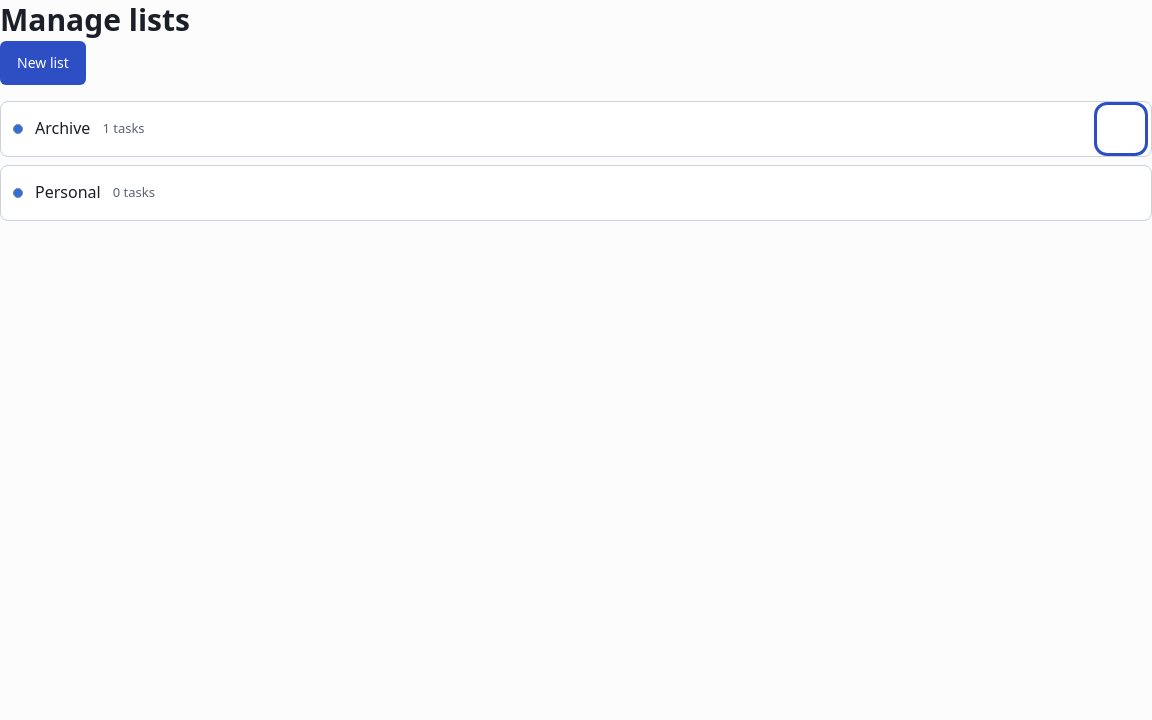
Test: keyboard-only: F6 delete list with disposition › runs the whole disposition flow from the keyboard on the default (move) choice
Expected: the list item "Archive 1 tasks" is shown, [0,100,1151,156]
Press ArrowDown in the button named "Actions for \"Archive\"", box [1099,106,1143,150]
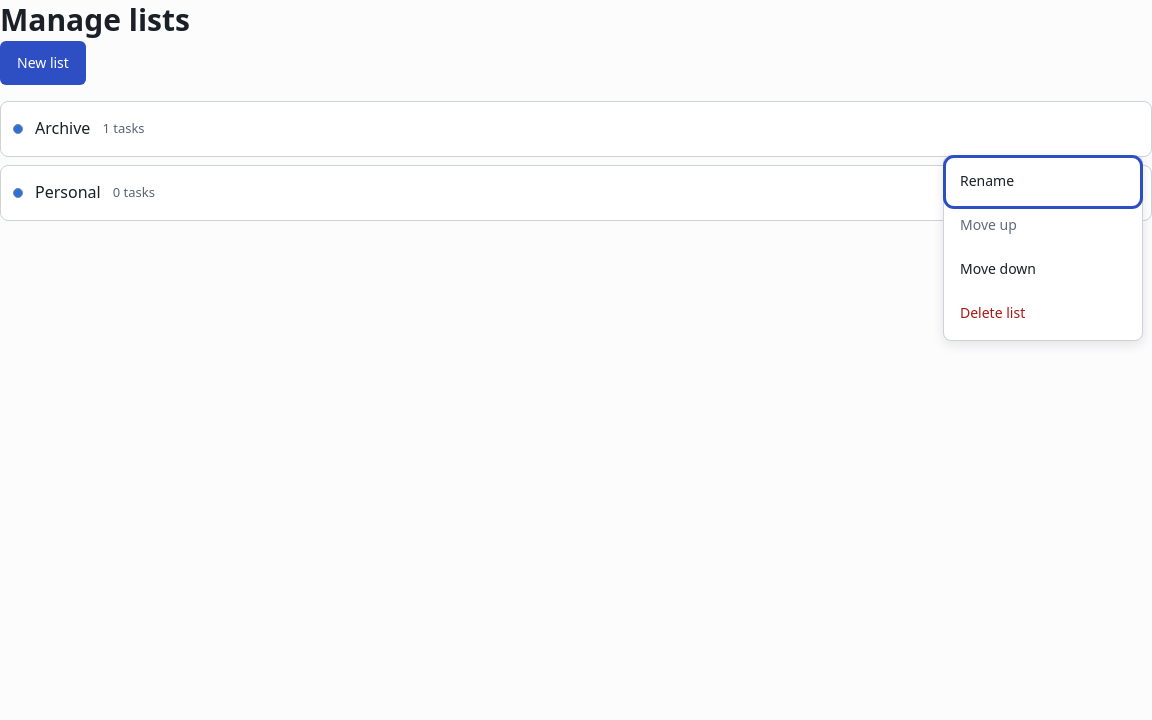
Result: the menu item "Rename" is shown at [948,160,1138,204]
Press ArrowDown in the menu, box [943,154,1143,340]
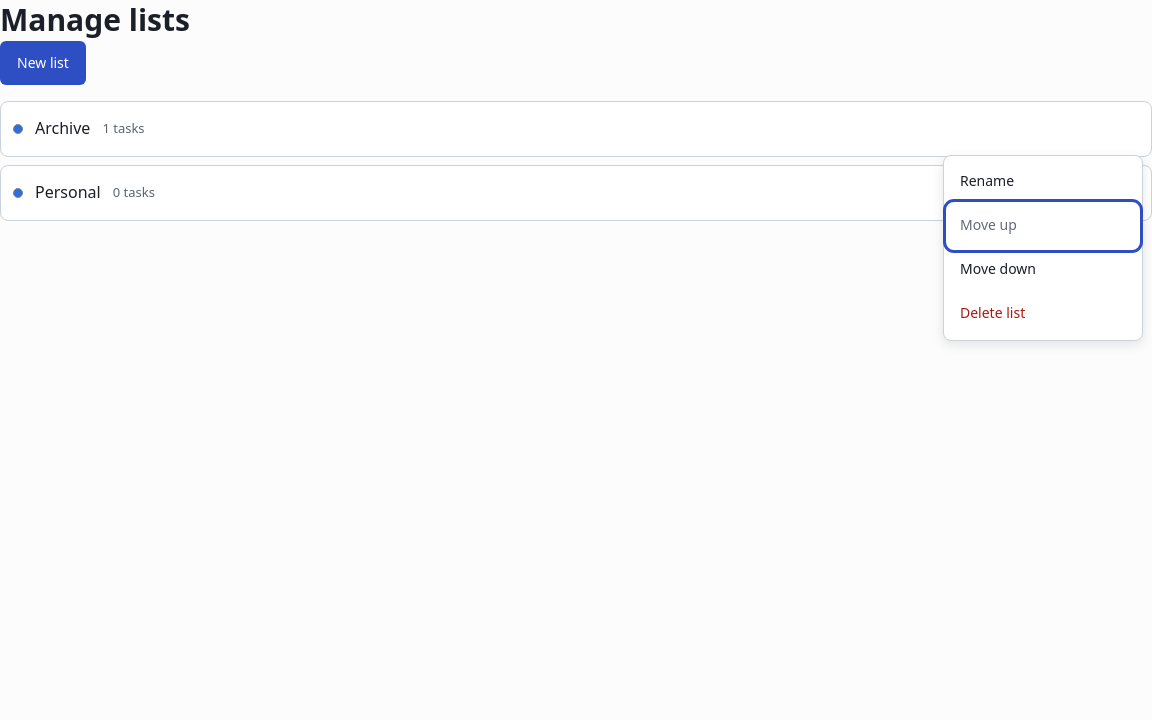
Press ArrowDown in the menu, box [943,154,1143,340]
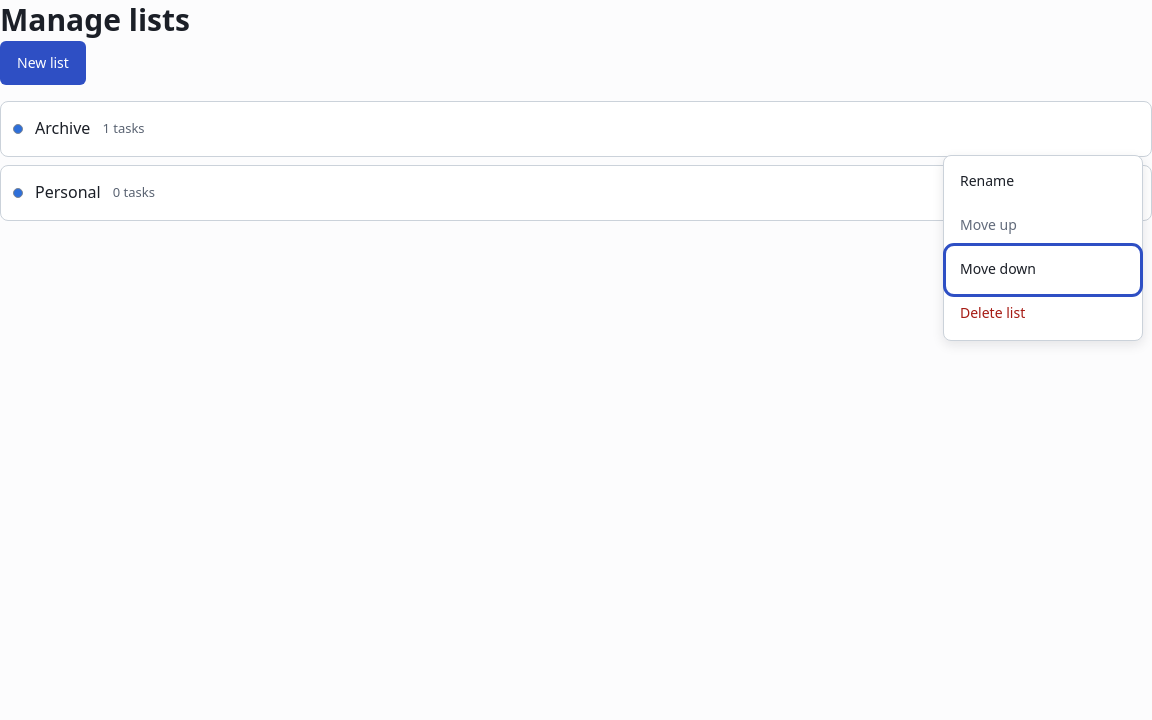
Press ArrowDown in the menu, box [943,154,1143,340]
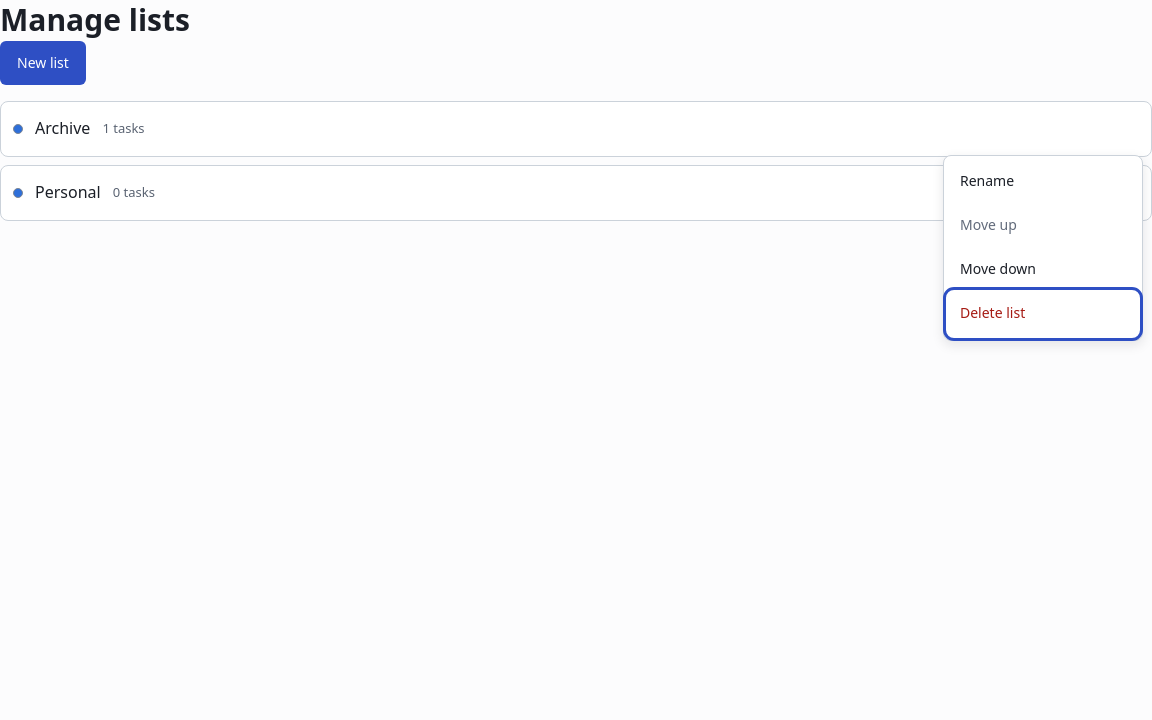
Result: the menu item "Delete list" is shown
Press Enter in the menu item "Delete list", box [948,292,1138,336]
Click the menu item "Delete list". click: point(1043, 314)
box: [948,292,1138,336]
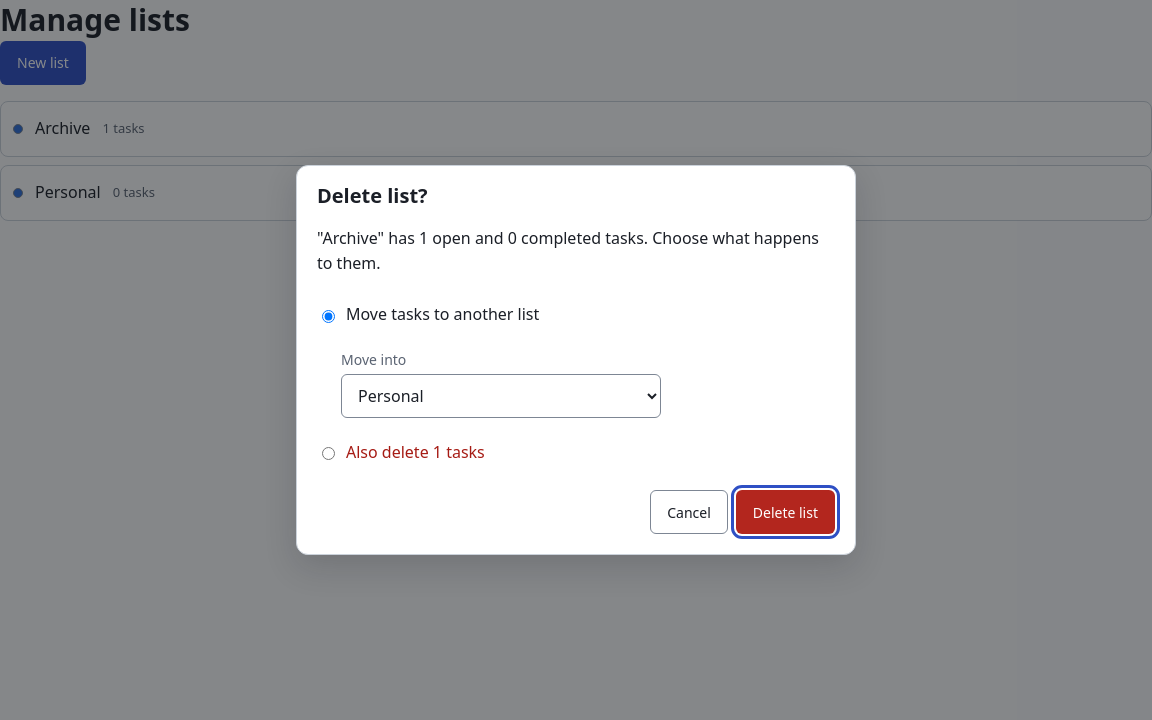
Result: the text "\"Archive\" has 1 open and 0 completed tasks. Choose what happens to them." is shown at [317,226,835,277]
Result: the dropdown labelled "Move into" shows "Personal" at [341,374,661,418]
Press Enter in the button "Delete list", box [736,490,835,534]
Click the button "Delete list". click: point(785, 512)
box: [736,490,835,534]
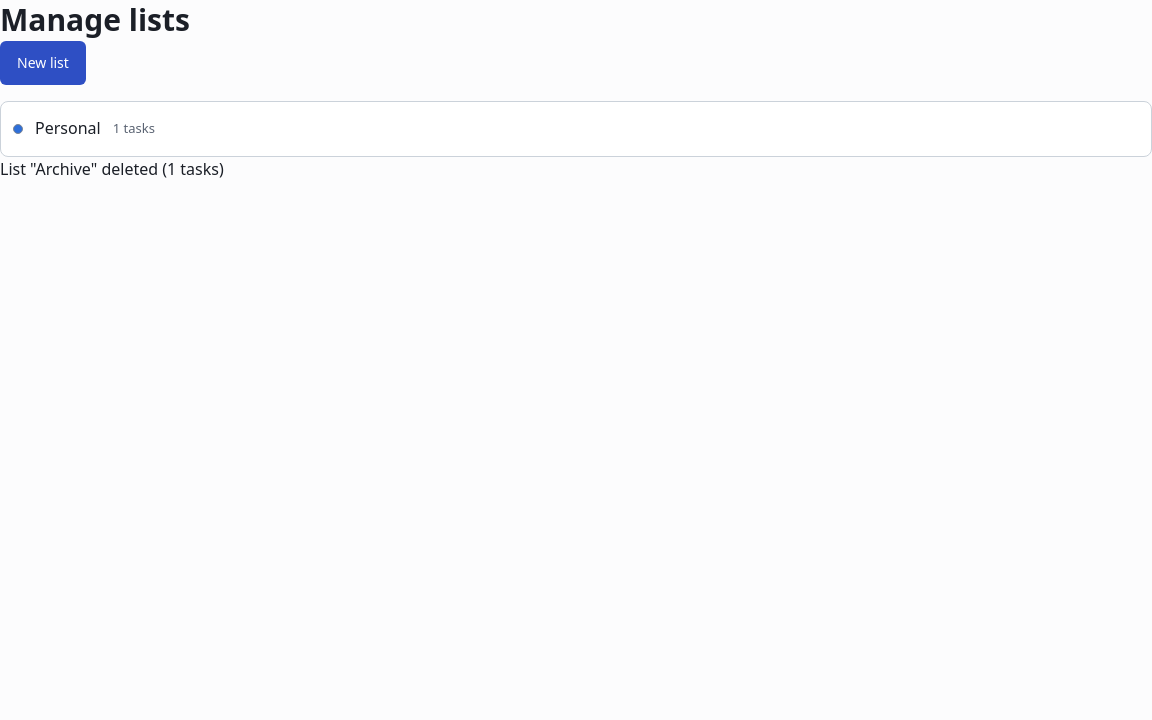
Result: the text "List \"Archive\" deleted (1 tasks)" is shown at [0,158,224,180]
